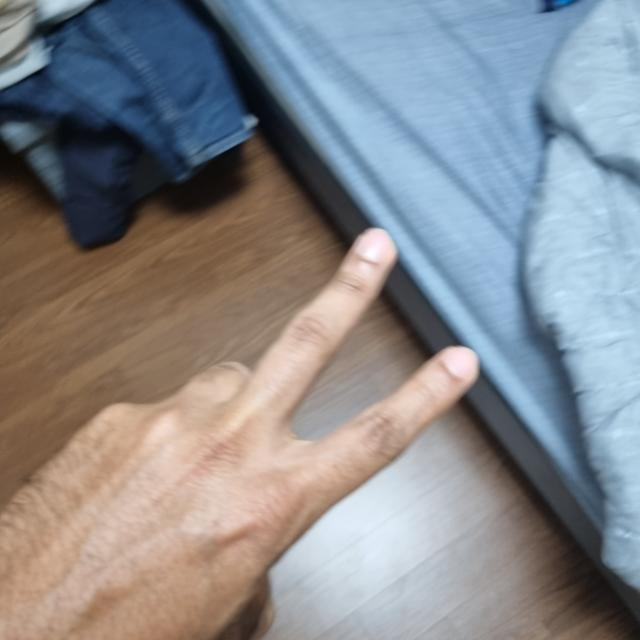Scissors: (0, 233, 477, 640)
